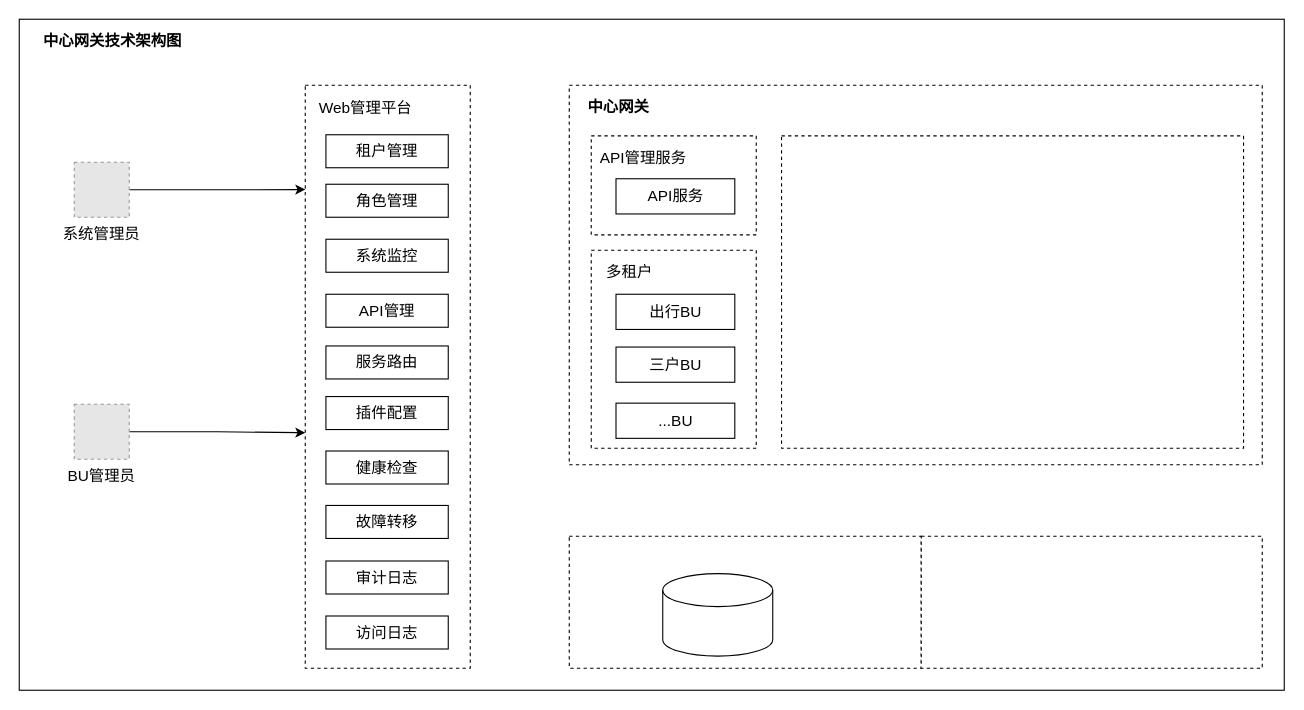
The diagram is 1304 pixels wide and 710 high, and some of its shapes have lost their labels. Grey dashed boxes stand in for pictures. The shapes that lost their labels are listed below. From the top down, each one's centre as x and y in pixels, then its label:
point 717,614: MongoDB
point 1091,601: DMCC
